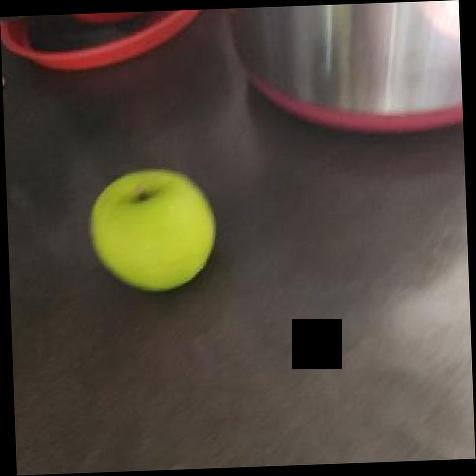green apple: (88, 167, 220, 294)
